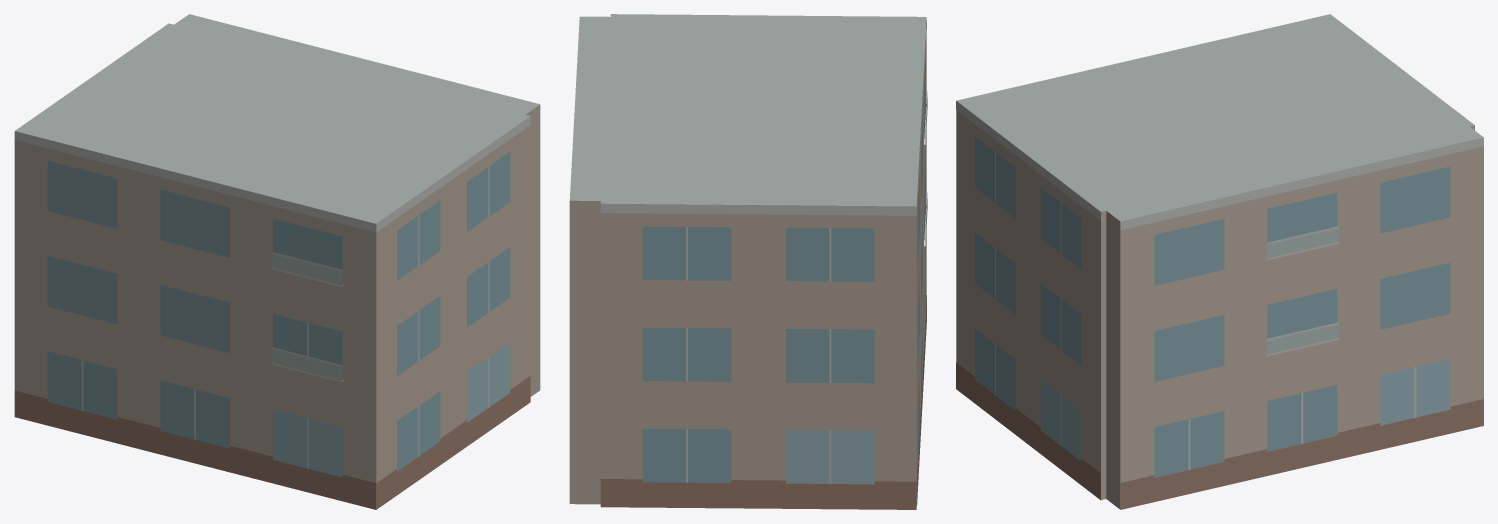
Rendered from survey-upis-32621335.glb.
3 views of the same model, side by side, from view 1: azimuth 30°, elevation 25°; view 2: azimuth 150°, elevation 25°; view 3: azimuth 270°, elevation 25° (orthographic). The views are drawn at different scales.
Visible parts, largest first — view 1: survey-upis-32621335.tmp; view 2: survey-upis-32621335.tmp; view 3: survey-upis-32621335.tmp.
Boxes of the visible parts, x1,y1,x2,y2 form: survey-upis-32621335.tmp: (14, 14, 540, 509); survey-upis-32621335.tmp: (569, 14, 927, 509); survey-upis-32621335.tmp: (956, 14, 1483, 509).
Bounding box in the file's own units: 12.28 × 7.95 × 13.19.
